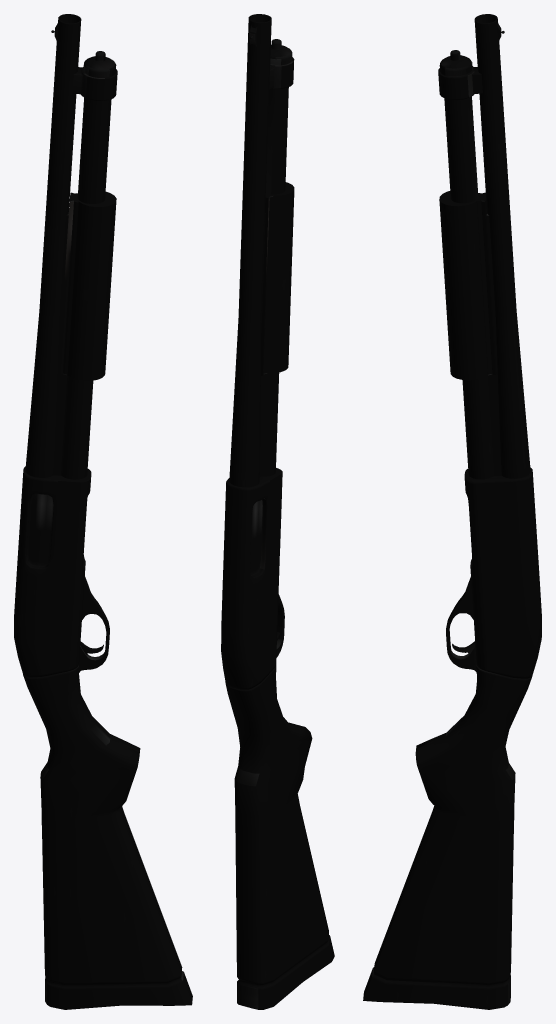
Rendered from Rem870.fbx.
The picture shows the model from 3 angles, left to right: view 1: azimuth 90°, elevation 25°; view 2: azimuth 150°, elevation 25°; view 3: azimuth 270°, elevation 25°; orthographic projection.
Parts seen in each view (by area): view 1: asset_Rem870.001; view 2: asset_Rem870.001; view 3: asset_Rem870.001.
Boxes of the visible parts, x1,y1,x2,y2 form: asset_Rem870.001: (14, 14, 192, 1009); asset_Rem870.001: (221, 14, 334, 1009); asset_Rem870.001: (363, 14, 541, 1009).
Bounding box in the file's own units: 0.0251 × 0.636 × 0.1048.
